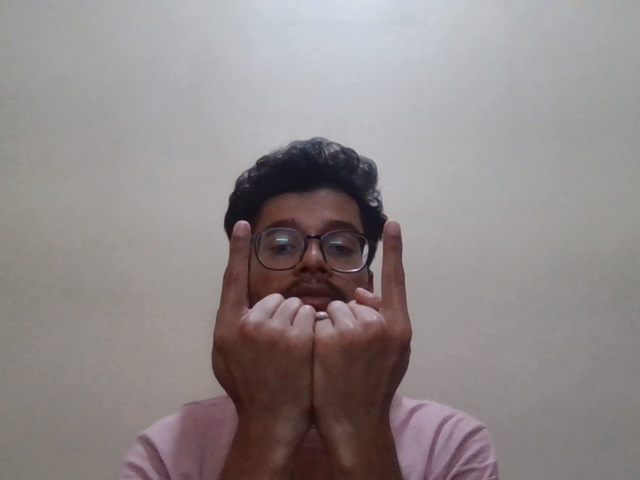when: (213, 210, 414, 414)
